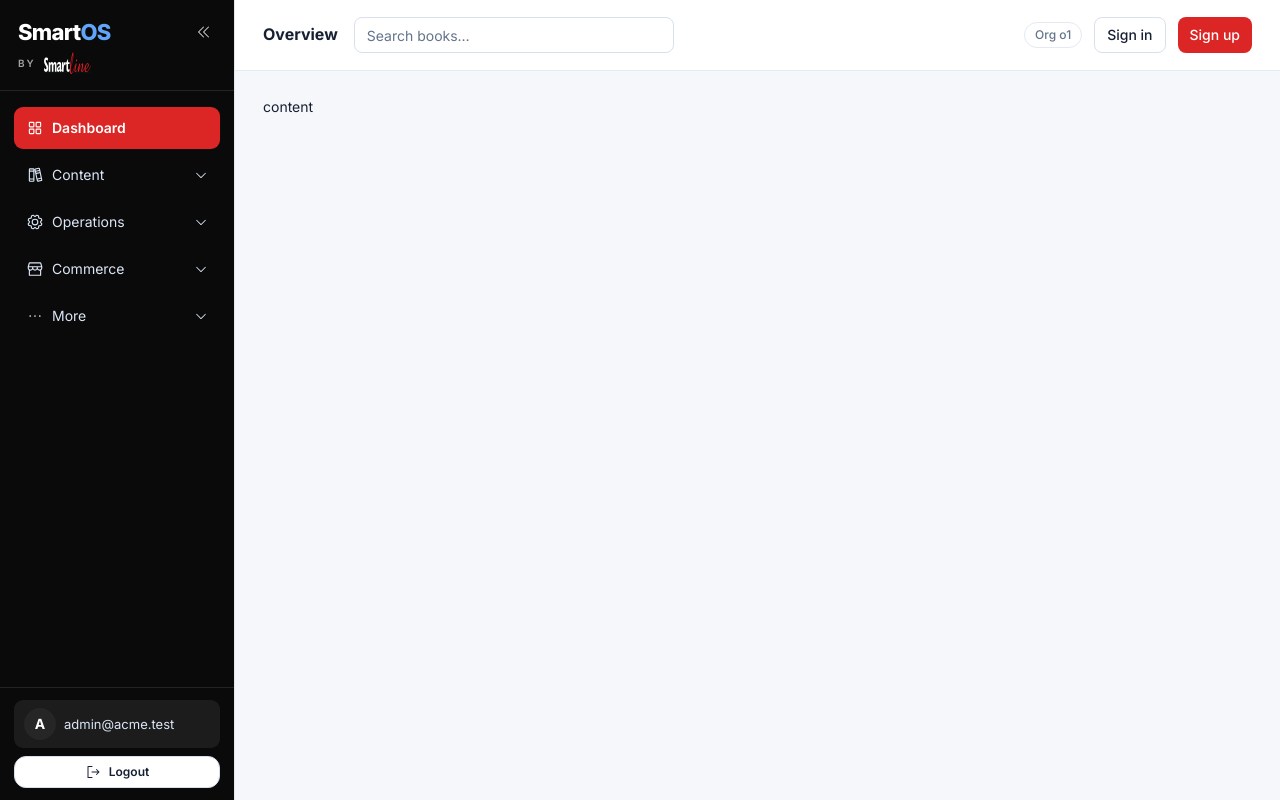
sidebar sections › expands only one dropdown at a time
The image size is (1280, 800).
Click the button with aria-label "Expand Content section". click: (117, 175)
box: [14,154,220,196]
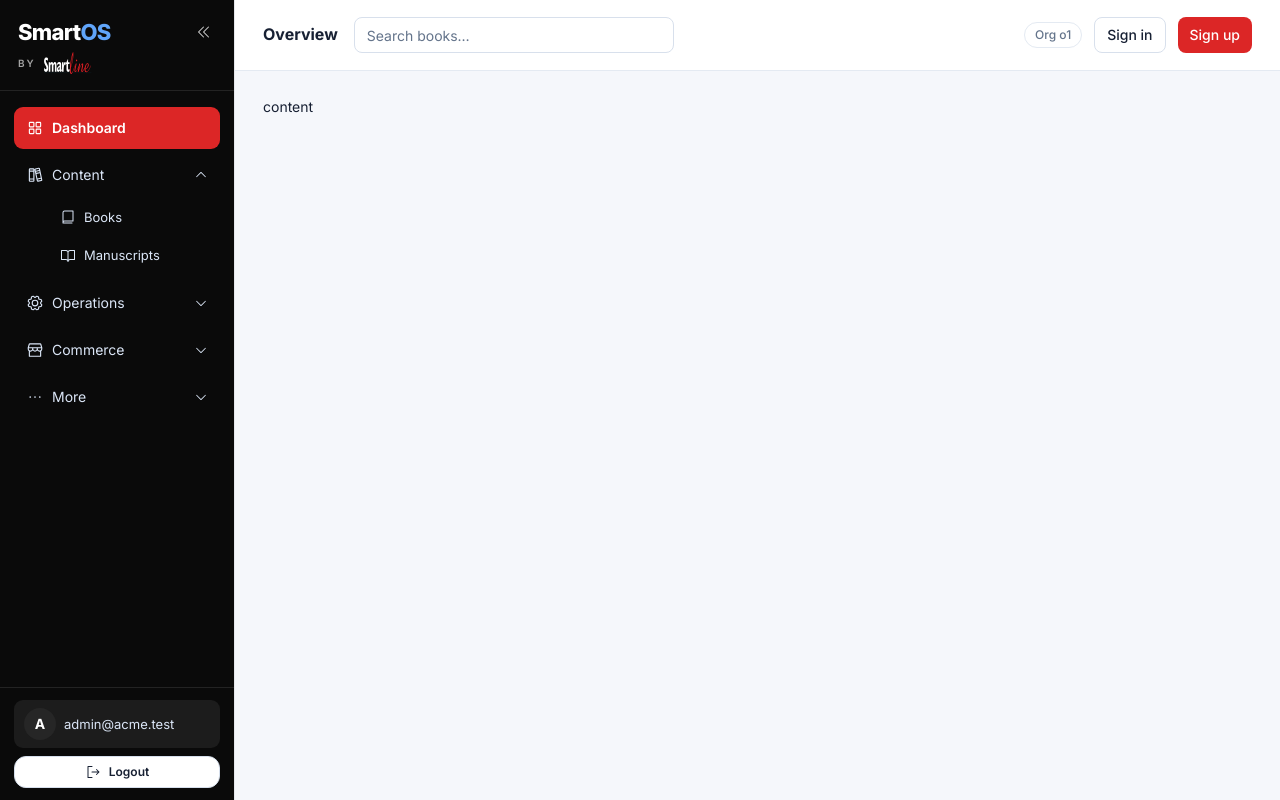
Expected: the button named "Expand Content section" is expanded, [14,154,220,196]
Click the button with aria-label "Expand Operations section". click: (117, 303)
box: [14,282,220,324]
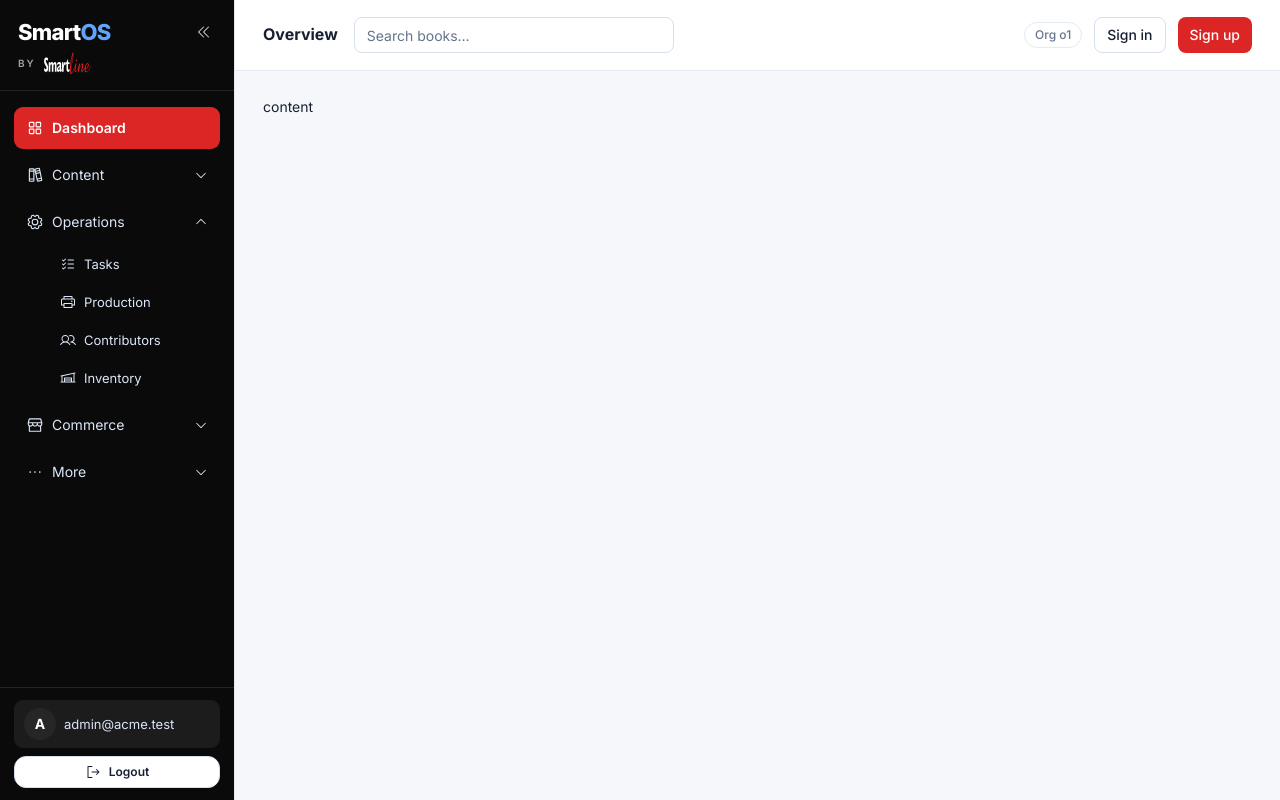
Expected: the button named "Expand Operations section" is expanded
Expected: the button with aria-label "Expand Content section" is collapsed, [14,154,220,196]
Click the button named "Expand Operations section". click: (117, 222)
box: [14,201,220,243]
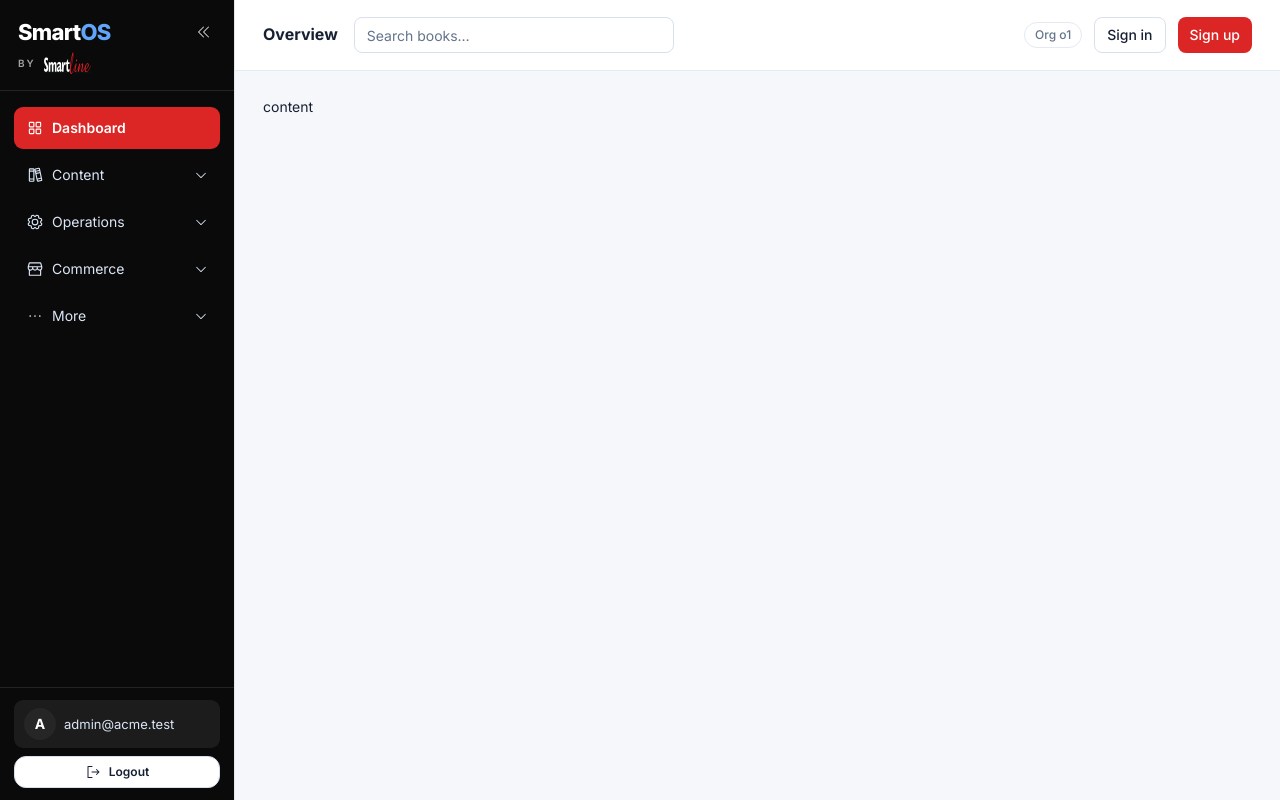
Expected: the button with aria-label "Expand Operations section" is collapsed, [14,201,220,243]
